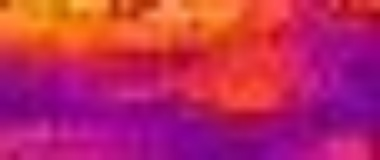Shadow: (1, 47, 138, 130), (293, 16, 380, 132), (138, 97, 294, 159)
